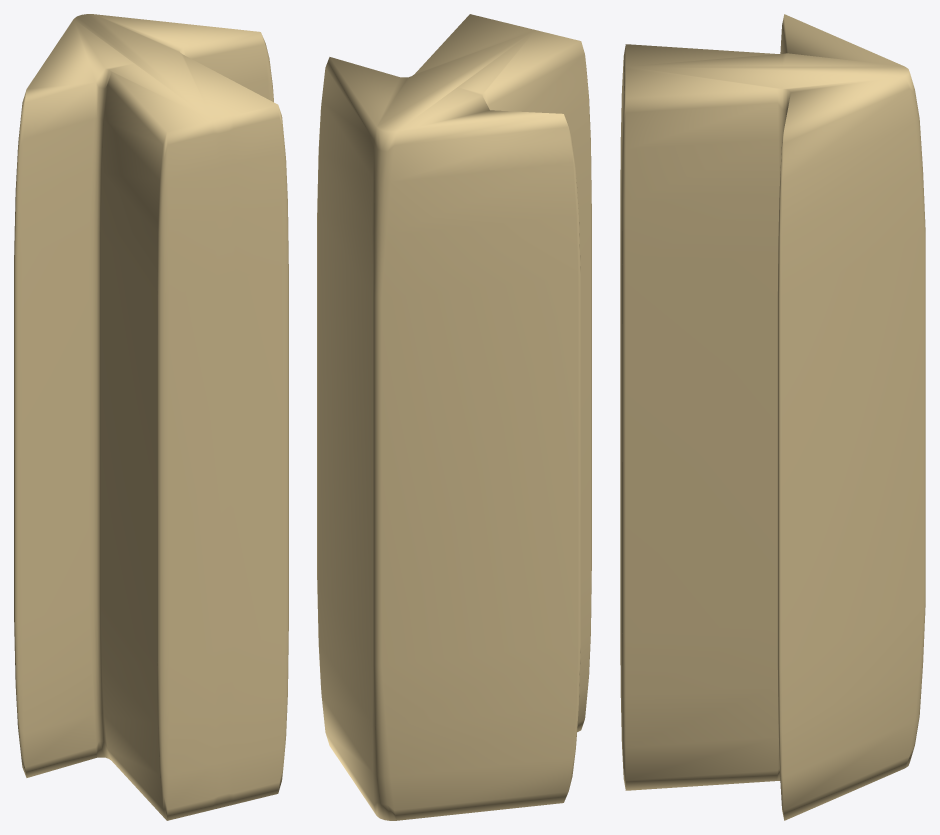
File: PlayerArrow2.fbx
3 views of the same model, side by side, from view 1: azimuth 30°, elevation 25°; view 2: azimuth 150°, elevation 25°; view 3: azimuth 270°, elevation 25° (orthographic).
Parts seen in each view (by area): view 1: Arrow; view 2: Arrow; view 3: Arrow.
Boxes of the visible parts, <box> form: Arrow: <box>14,14,288,820</box>; Arrow: <box>317,14,591,820</box>; Arrow: <box>620,14,925,820</box>.
Bounding box in the file's own units: 1 × 2.5 × 1.
